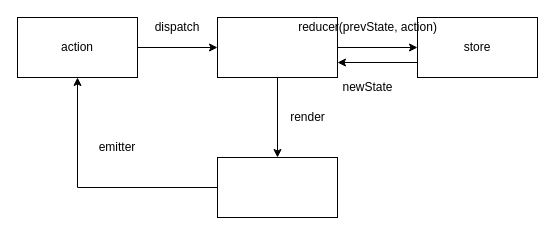
This 555x235 diagram has some shape labels left out. Here are the shapes that lost their labels. From the top down, the centre of each, then its label:
At (x=277, y=47): "state".
At (x=277, y=187): "view(UI)".
